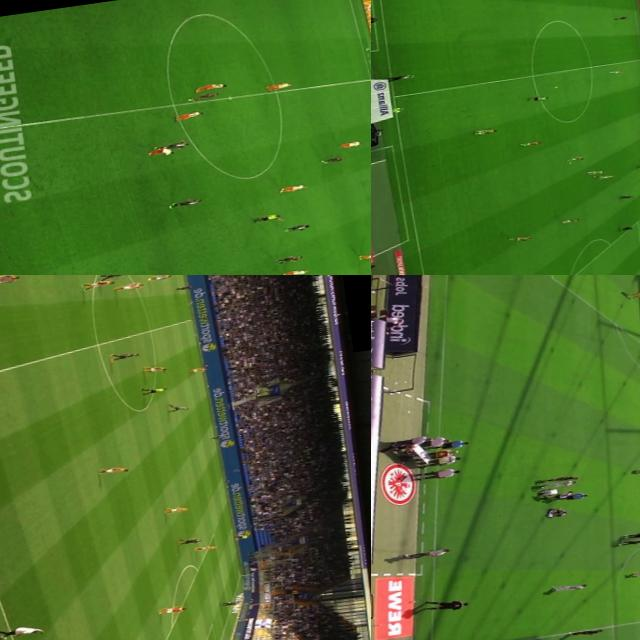ball: (550, 84, 562, 90), (590, 174, 598, 179), (568, 160, 574, 166)
player: (190, 80, 228, 94), (80, 279, 117, 292), (552, 581, 589, 594), (166, 197, 203, 209), (567, 627, 604, 639), (545, 474, 581, 486), (156, 140, 189, 152), (171, 110, 204, 122), (542, 479, 578, 490), (272, 254, 304, 266), (144, 146, 176, 158), (112, 350, 142, 362), (186, 92, 218, 103), (472, 125, 498, 138), (264, 81, 292, 93), (102, 464, 130, 476), (0, 275, 24, 288), (280, 224, 311, 234), (114, 282, 145, 292), (140, 364, 166, 375), (278, 184, 306, 194), (336, 140, 364, 150), (319, 156, 346, 166), (157, 605, 187, 614), (165, 506, 192, 516), (167, 403, 190, 414), (178, 536, 203, 546), (538, 488, 560, 498), (278, 268, 309, 275), (145, 275, 176, 282), (97, 275, 133, 281), (623, 529, 640, 541), (620, 538, 640, 548), (509, 234, 532, 242), (173, 284, 196, 292), (219, 600, 240, 608), (625, 289, 640, 300), (355, 251, 371, 261), (560, 217, 581, 224), (586, 169, 604, 177), (528, 95, 548, 102), (520, 140, 542, 146), (198, 545, 216, 552), (620, 193, 636, 200), (188, 367, 206, 373), (630, 569, 640, 579), (567, 156, 583, 162), (598, 174, 614, 180), (618, 226, 634, 232), (610, 69, 624, 75), (614, 15, 626, 21), (636, 162, 640, 170)
